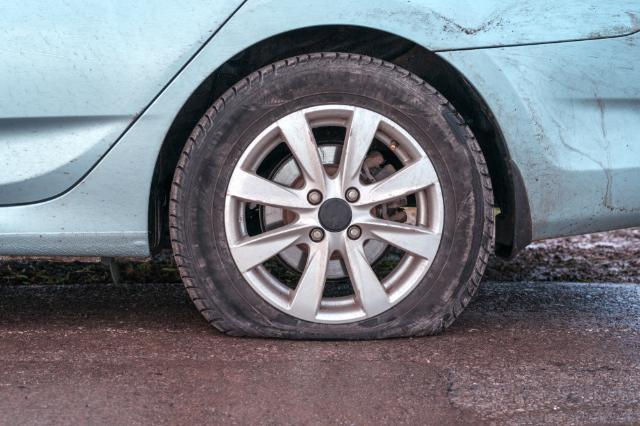tire flat: (168, 54, 492, 344)
